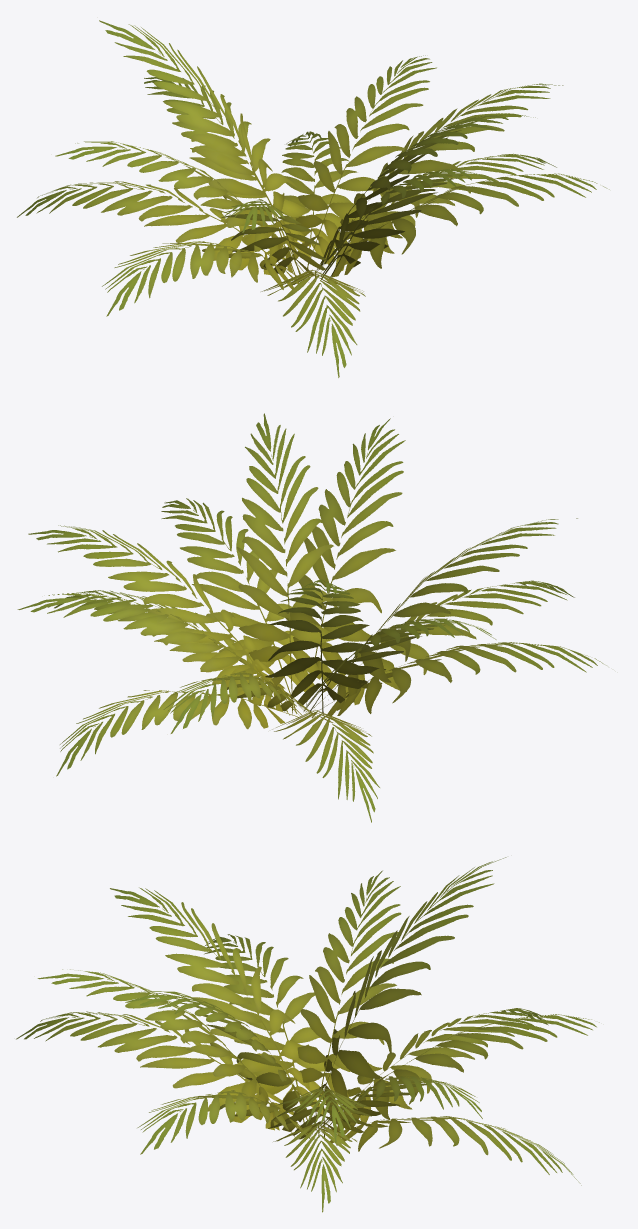
File: fern 01_lod1.obj
3 renders of one model, top to bottom at view 1: azimuth 30°, elevation 25°; view 2: azimuth 150°, elevation 25°; view 3: azimuth 270°, elevation 25°, orthographic.
Visible parts, largest first — view 1: tree; view 2: tree; view 3: tree.
Boxes of the visible parts, x1,y1,x2,y2 form: tree: (17, 20, 609, 377); tree: (17, 413, 606, 822); tree: (16, 857, 599, 1212).
Bounding box in the file's own units: 196 × 78.05 × 191.
